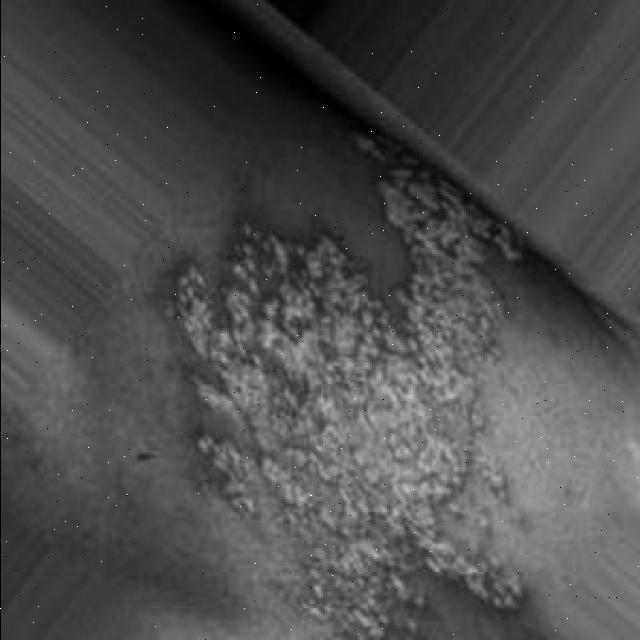Shingles: (168, 130, 526, 640)
